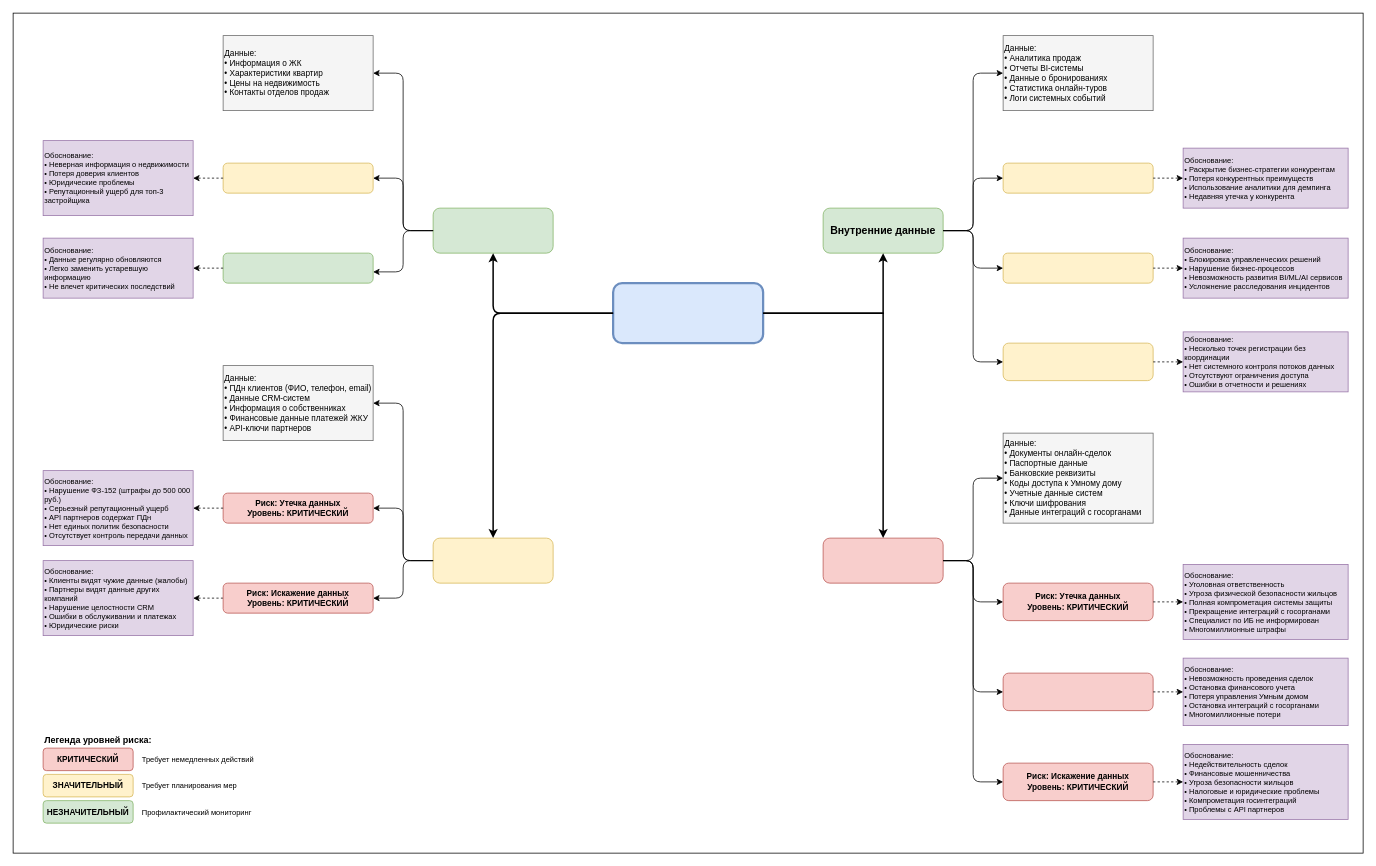
This 1376x866 diagram has some shape labels left out. The shapes that lost their labels are listed below. From the top down, each one's box as (x1, y1, x2, y2) in pixels, then its label:
(222, 162, 373, 193): Риск: Искажение данных Уровень: ЗНАЧИТЕЛЬНЫЙ
(1002, 162, 1153, 193): Риск: Утечка данных Уровень: ЗНАЧИТЕЛЬНЫЙ
(432, 207, 553, 253): Публичные данные
(222, 252, 373, 283): Риск: Обесценивание данных Уровень: НЕЗНАЧИТЕЛЬНЫЙ
(1002, 252, 1153, 283): Риск: Потеря данных Уровень: ЗНАЧИТЕЛЬНЫЙ
(612, 282, 764, 344): Безопасность данных PropDevelopment
(1002, 342, 1153, 381): Риск: Некачественные данные Уровень: ЗНАЧИТЕЛЬНЫЙ
(432, 537, 553, 583): Конфиденциальные данные
(822, 537, 943, 583): Секретные данные
(1002, 672, 1153, 711): Риск: Потеря данных Уровень: КРИТИЧЕСКИЙ
